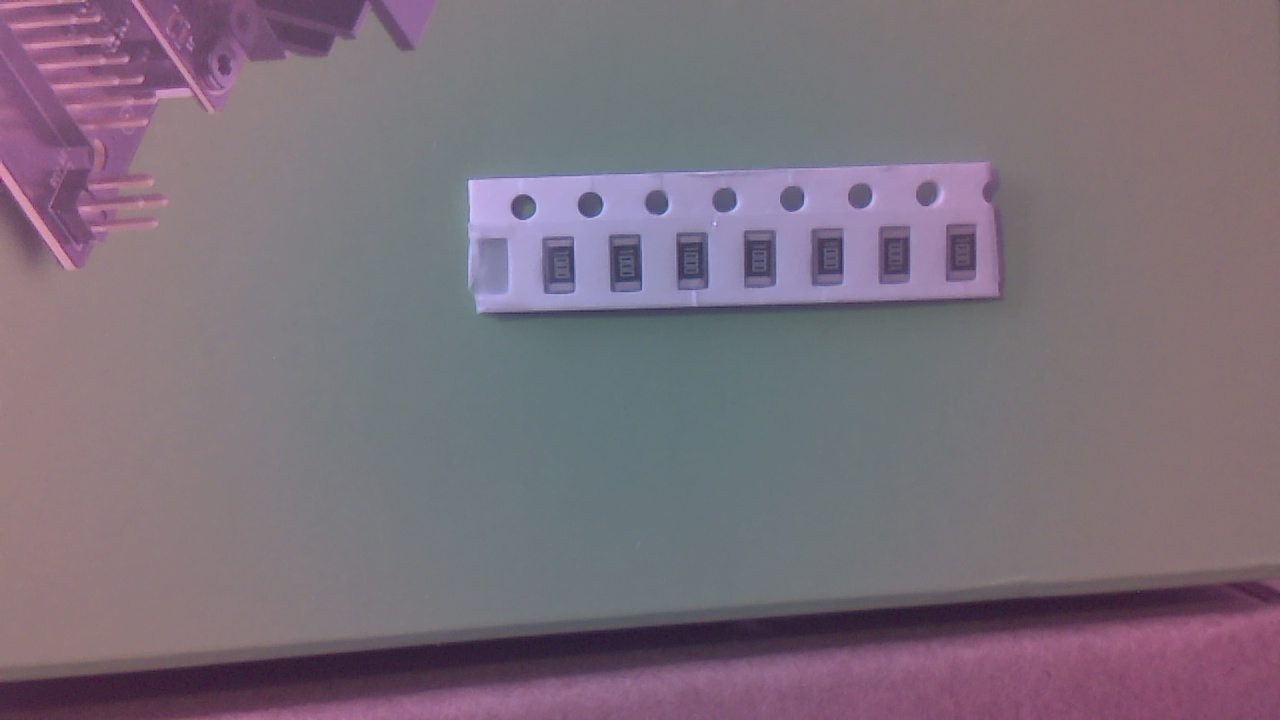Resistor: (817, 235, 852, 293), (548, 240, 582, 297), (884, 231, 916, 291), (953, 229, 985, 289), (748, 238, 783, 292), (614, 240, 646, 297), (681, 239, 713, 293)
